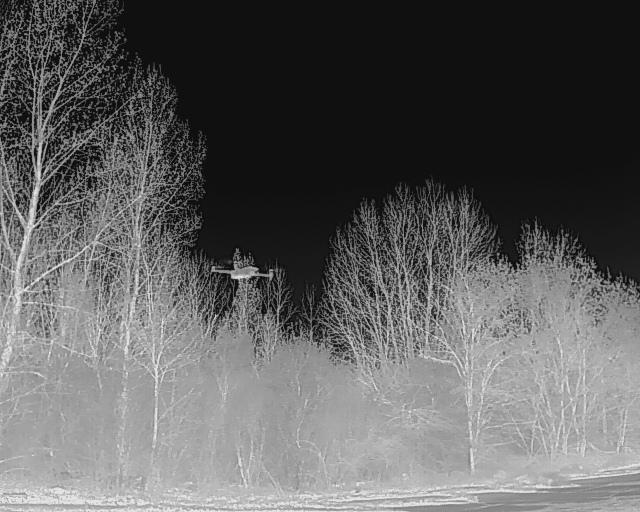drone: (203, 245, 289, 295)
